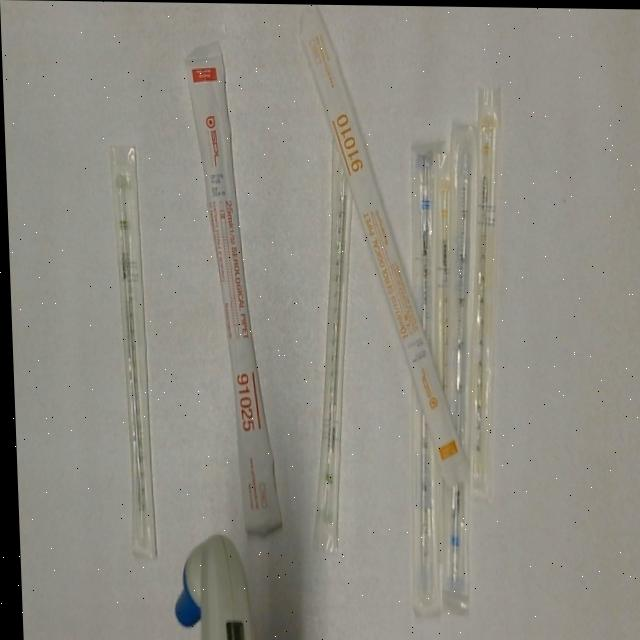Pipette Controller: (164, 530, 252, 640)
Serelogical Pipet 1 mL: (454, 79, 519, 498), (421, 143, 460, 391)
Serelogical Pipet 10 mL: (296, 4, 469, 487)
Serelogical Pipet 2 mL: (293, 132, 369, 554), (105, 136, 157, 560)
Serelogical Pipet 25 mL: (183, 41, 284, 537)
Serelogical Pipet 5 mL: (424, 120, 494, 598), (392, 133, 453, 616)
